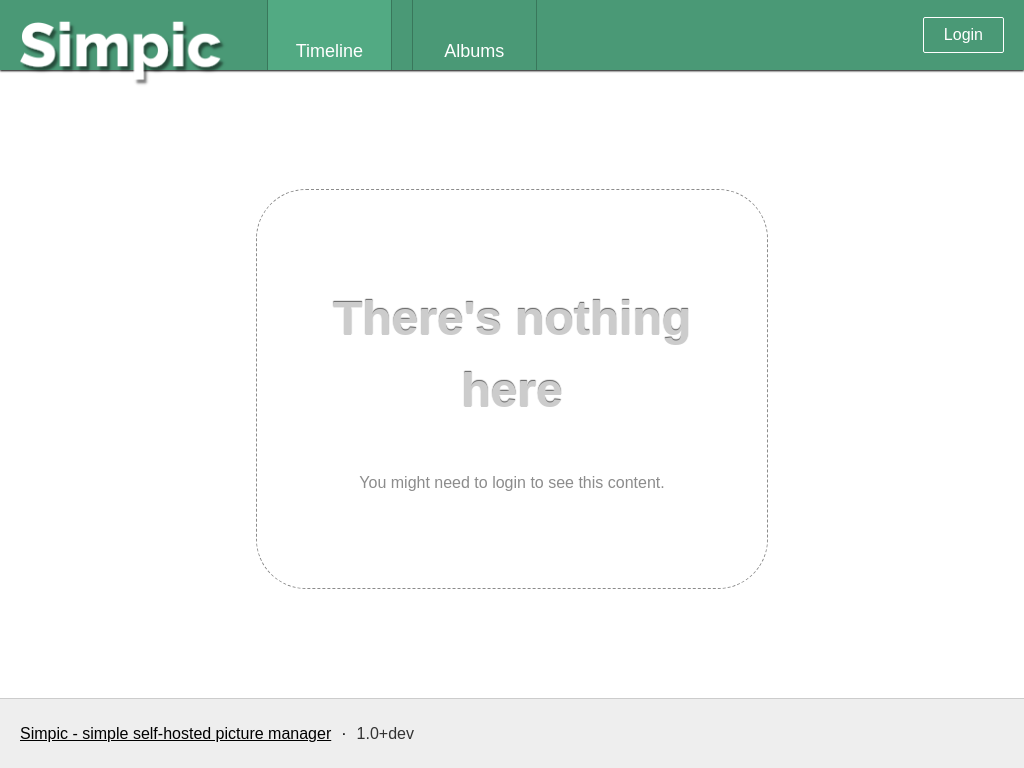
Scenario: Login test › Refreshes user info when logging in succeeds
This screenshot has width=1024, height=768.
Click the button "Login". click: (964, 35)
box: [923, 17, 1004, 53]
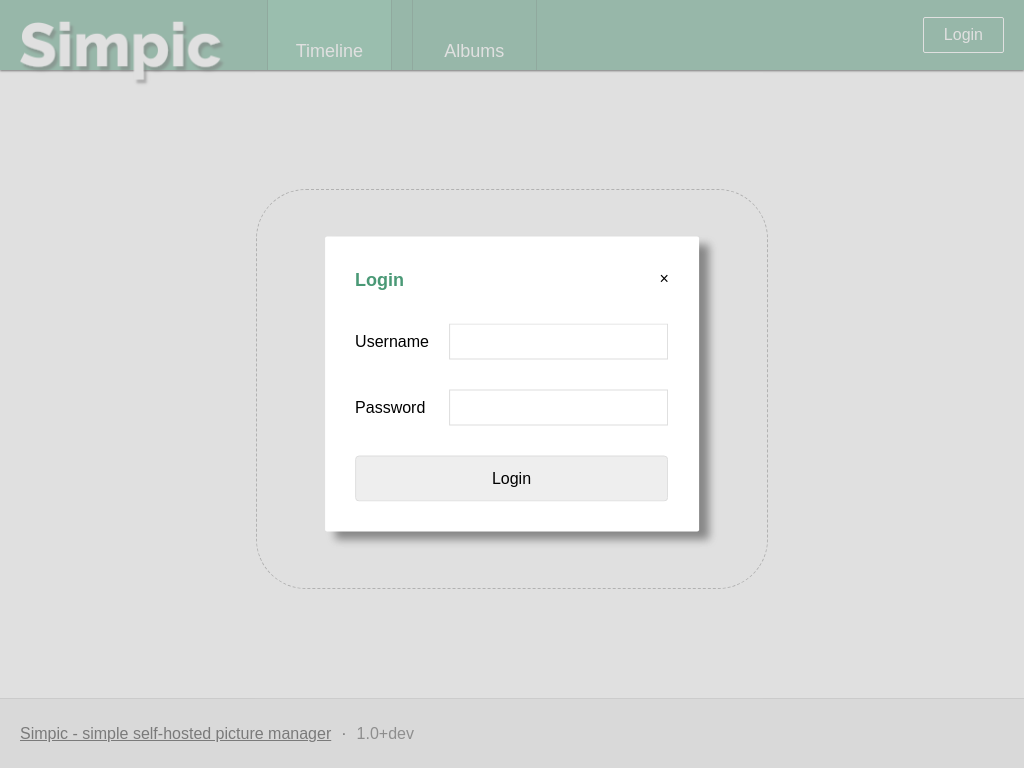
Type "tester" into the field with id "username". click: (559, 342)
box: [449, 324, 668, 360]
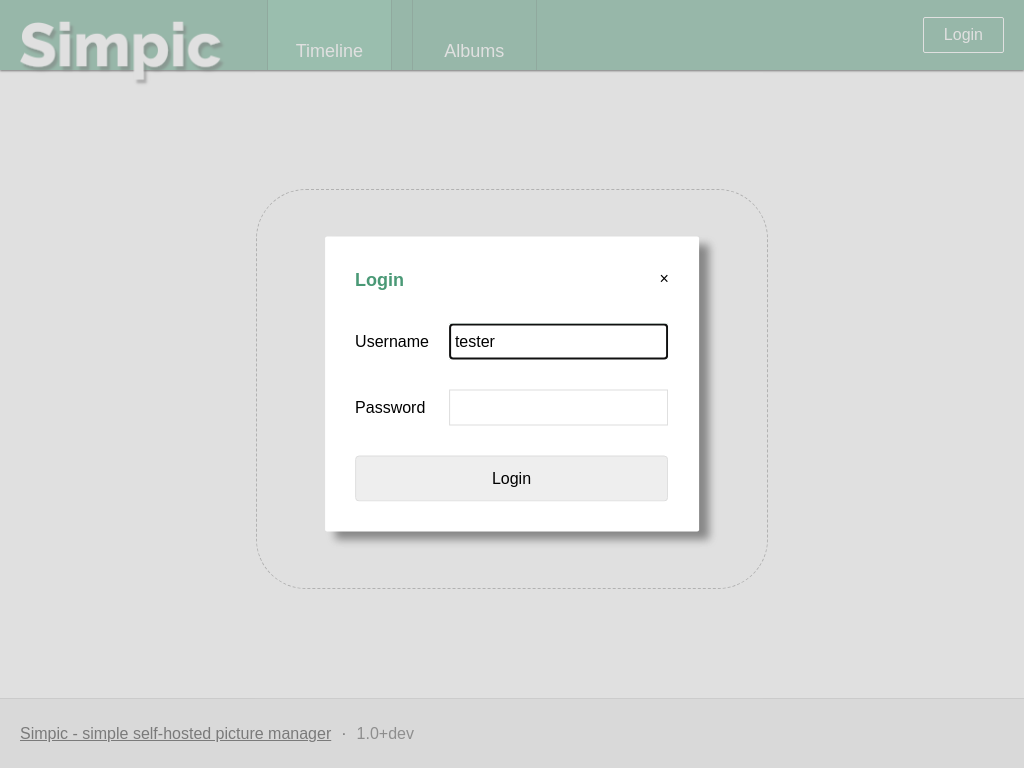
Type "testing123" into the password field labelled "Password". click: (559, 408)
box: [449, 390, 668, 426]
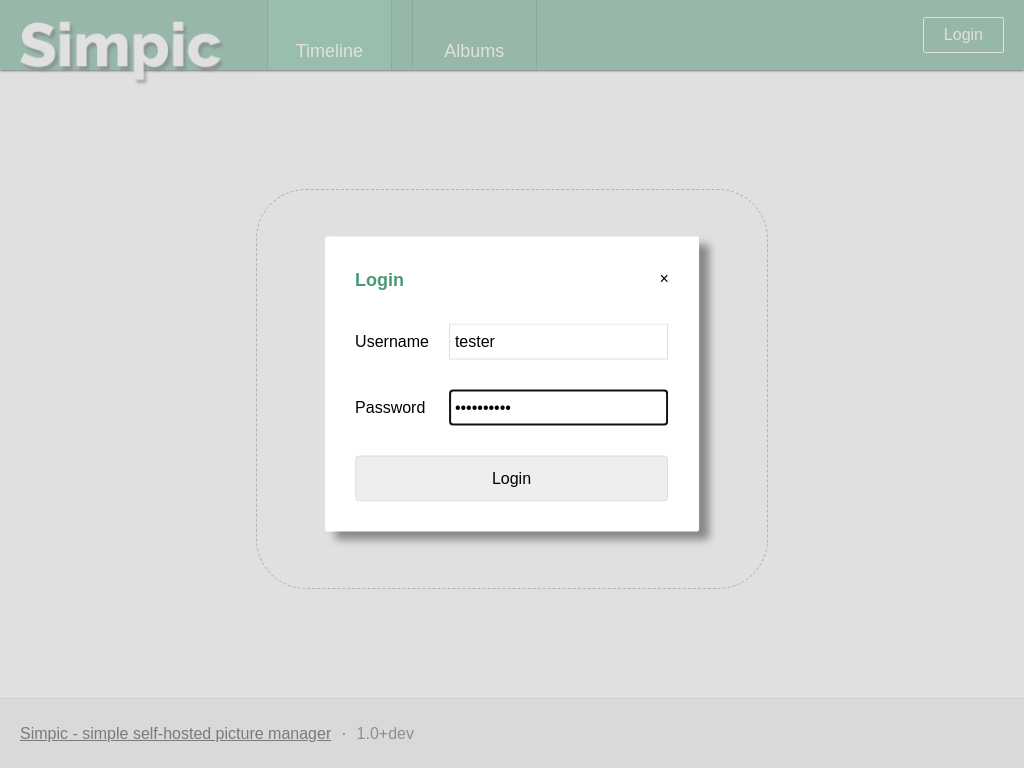
Click the button "Login". click: (512, 479)
box: [355, 456, 668, 502]
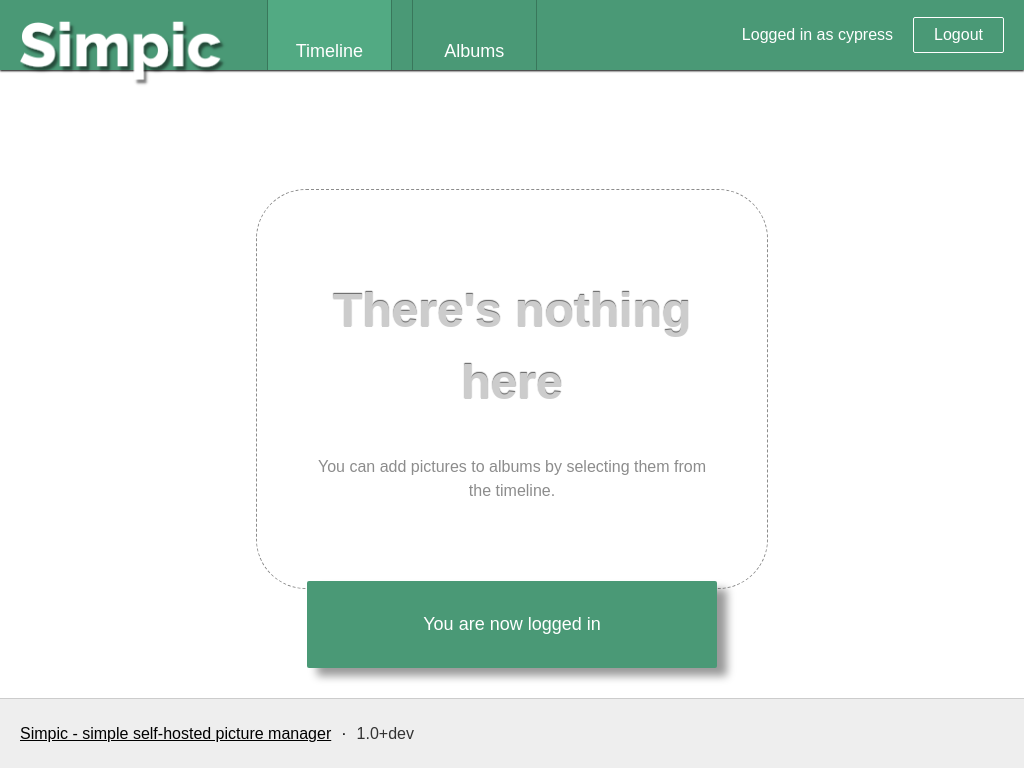
Expected: the text "Logged in as cypress" is shown, [742, 23, 893, 47]
Expected: the button "Logout" is shown, [913, 17, 1004, 53]
